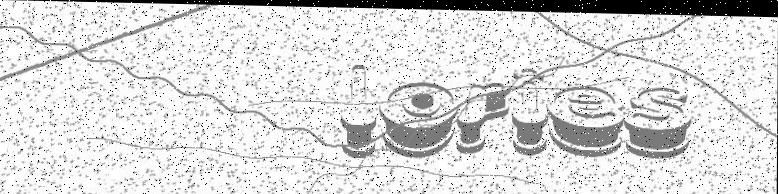e: (546, 81, 626, 156)
i: (509, 62, 550, 155)
l: (340, 59, 380, 158)
o: (378, 76, 458, 158)
r: (455, 76, 512, 154)
s: (622, 82, 692, 157)
